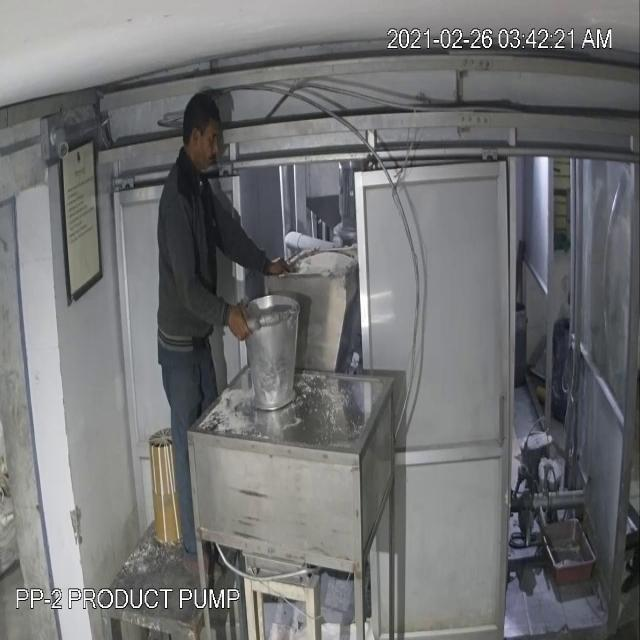no-helmet: (181, 87, 222, 181)
